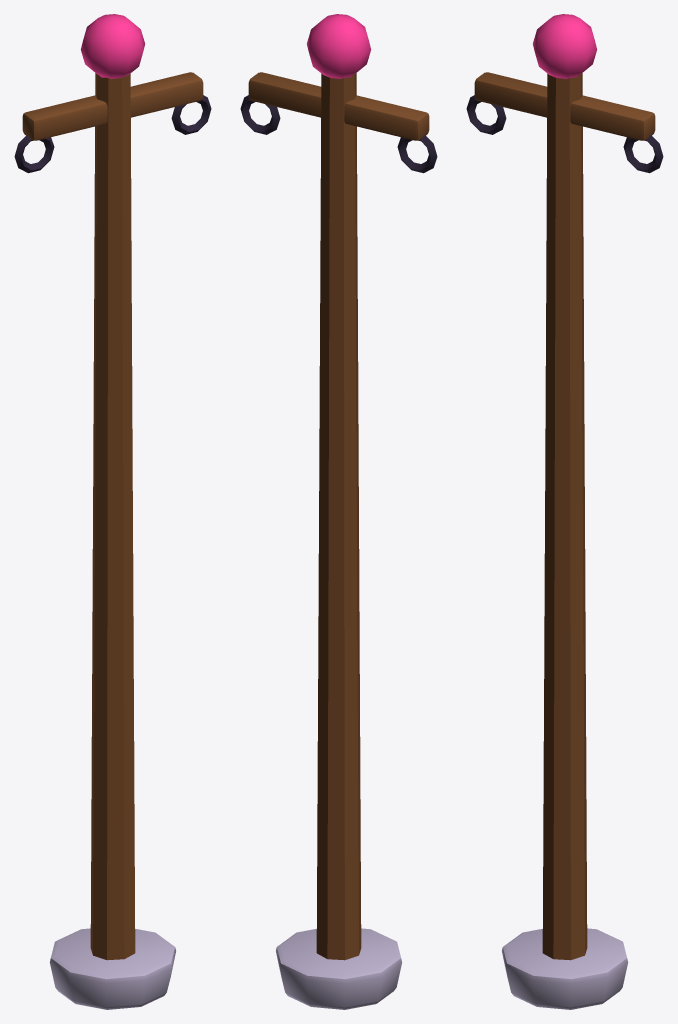
Rendered from lobby_light_pole.obj.
The picture shows the model from 3 angles, left to right: view 1: azimuth 30°, elevation 25°; view 2: azimuth 150°, elevation 25°; view 3: azimuth 330°, elevation 25°; orthographic projection.
Visible parts, largest first — view 1: lobby_light_pole; view 2: lobby_light_pole; view 3: lobby_light_pole.
Part boxes in pixels (<box>): lobby_light_pole: <box>14,14,211,1009</box>; lobby_light_pole: <box>240,14,437,1009</box>; lobby_light_pole: <box>466,14,663,1009</box>.
Bounding box in the file's own units: 2.76 × 13 × 1.57.
1 material, 1 textured.
